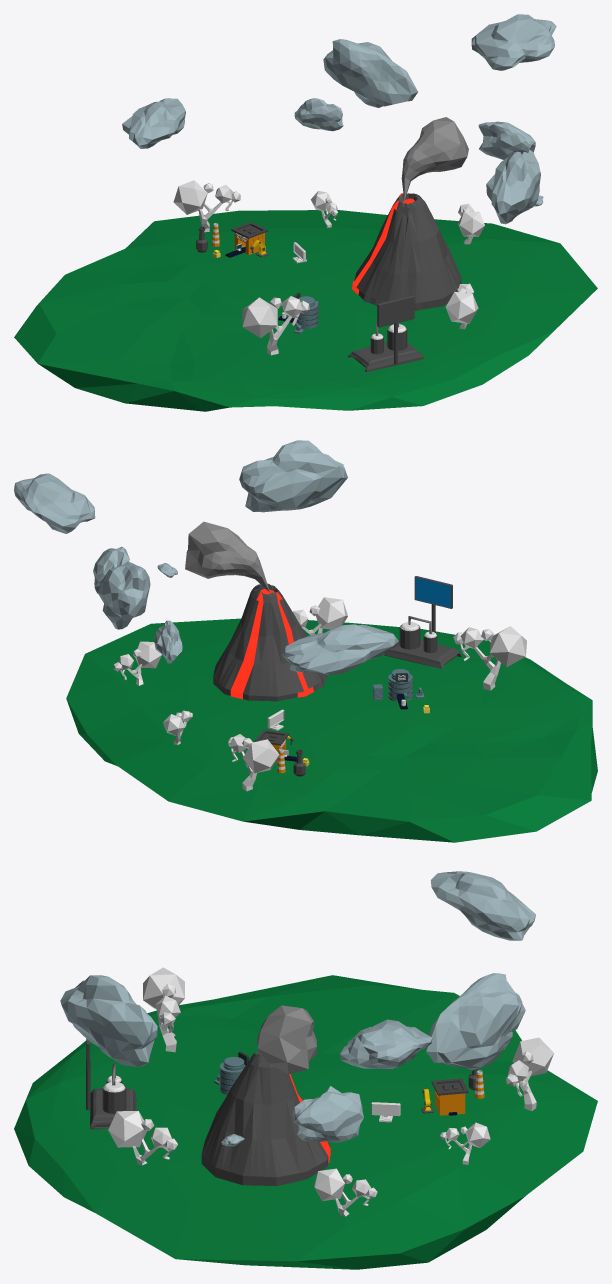
3 renders of one model, top to bottom at view 1: azimuth 30°, elevation 25°; view 2: azimuth 150°, elevation 25°; view 3: azimuth 270°, elevation 25°, orthographic. The views are drawn at different scales.
Parts seen in each view (by area): view 1: Island, Volcano, Cloud.002, Cloud.005, Smoke, Cloud.001, Cloud.004, Cloud, Cloud.003, Cube, Icosphere, Plane (+4 smaller); view 2: Island, Volcano, Cloud.001, Cloud.004, Smoke, Cloud.005, Cloud.002, Lava, Cube, Icosphere, Icosphere.016, Cloud.003 (+5 smaller); view 3: Island, Volcano, Cloud.002, Cloud.001, Cloud.004, Smoke, Cloud.005, Cloud, Icosphere.015, Icosphere, Icosphere.016, Cube (+4 smaller).
Boxes of the visible parts, box(x1,y1,x2,y2) form: Island: box(14, 210, 597, 411); Volcano: box(354, 193, 461, 310); Cloud.002: box(323, 39, 417, 107); Cloud.005: box(471, 14, 556, 70); Smoke: box(401, 117, 468, 200); Cloud.001: box(486, 151, 540, 224); Cloud.004: box(122, 98, 185, 148); Cloud: box(478, 121, 535, 159); Cloud.003: box(294, 98, 343, 131); Cube: box(347, 342, 423, 372); Icosphere: box(242, 297, 277, 337); Plane: box(377, 295, 414, 327); Island: box(66, 618, 597, 842); Volcano: box(213, 583, 327, 701); Cloud.001: box(239, 440, 347, 512); Cloud.004: box(282, 624, 398, 674); Smoke: box(185, 521, 269, 592); Cloud.005: box(14, 473, 95, 533); Cloud.002: box(98, 561, 150, 629); Lava: box(230, 589, 313, 699); Cube: box(384, 640, 462, 668); Icosphere: box(490, 626, 526, 667); Icosphere.016: box(243, 739, 279, 773); Cloud.003: box(154, 620, 182, 663); Island: box(14, 975, 597, 1269); Volcano: box(201, 1051, 330, 1185); Cloud.002: box(426, 973, 525, 1070); Cloud.001: box(60, 975, 157, 1067); Cloud.004: box(430, 871, 535, 940); Smoke: box(257, 1005, 316, 1074); Cloud.005: box(340, 1019, 432, 1068); Cloud: box(292, 1086, 363, 1142); Icosphere.015: box(108, 1111, 146, 1147); Icosphere: box(143, 967, 184, 1009); Icosphere.016: box(512, 1037, 553, 1076); Cube: box(90, 1088, 136, 1129).
Size of the model in its own units: 116 by 48.23 by 91.21.
